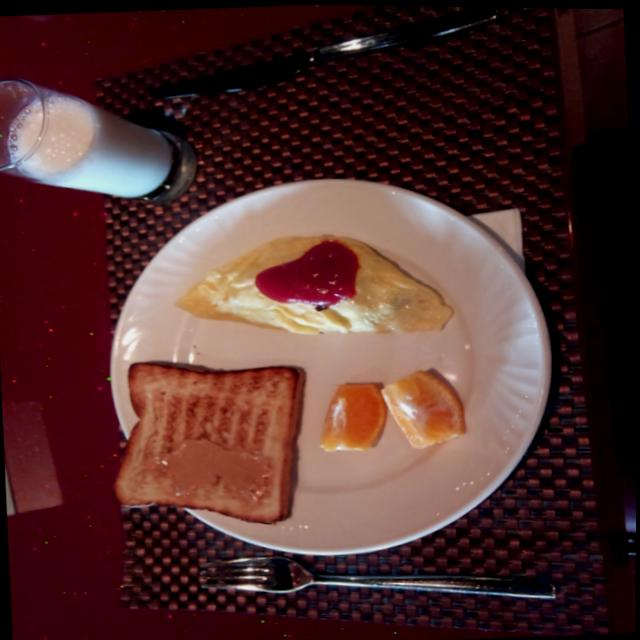面包点心: (89, 345, 321, 538)
鸡蛋料理: (156, 221, 451, 354)
